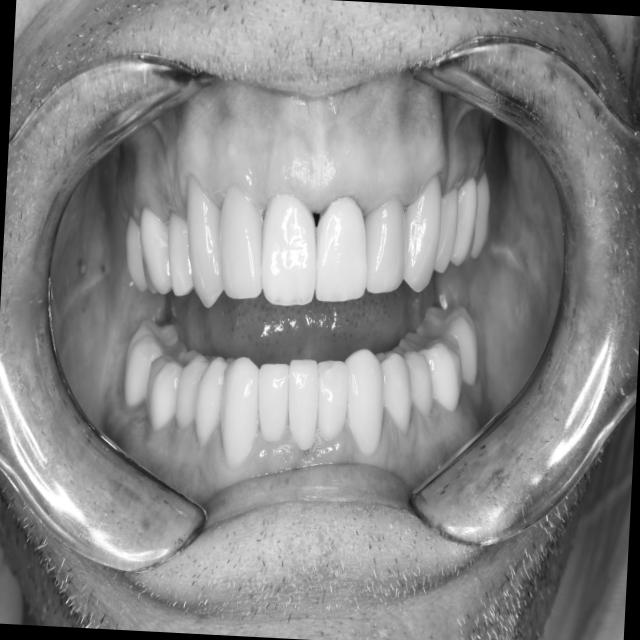tooth: (255, 189, 328, 318), (210, 176, 273, 313), (178, 168, 235, 316), (312, 190, 374, 306), (410, 296, 484, 390), (395, 164, 446, 297), (396, 324, 468, 416), (358, 187, 414, 299), (214, 353, 266, 473), (338, 341, 390, 460), (120, 318, 179, 414), (141, 345, 200, 440), (366, 340, 420, 438), (281, 351, 327, 458), (386, 339, 441, 422), (169, 346, 217, 437), (134, 200, 179, 297), (192, 352, 235, 453), (310, 348, 354, 445), (161, 202, 201, 300), (254, 356, 295, 448), (430, 175, 463, 278), (448, 174, 482, 271), (119, 212, 157, 297), (464, 166, 497, 263)
